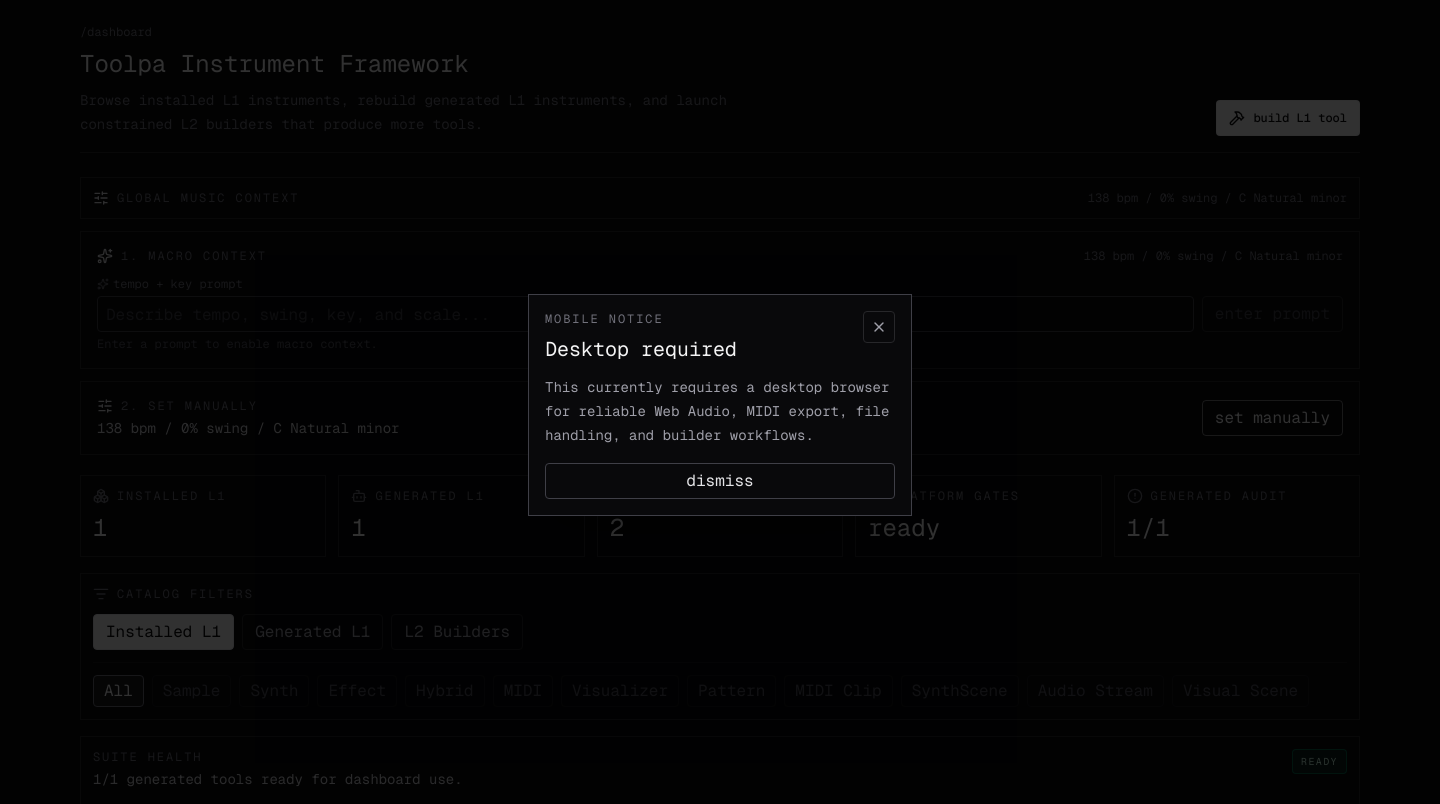
Scenario: ToolSuiteDashboard › shows a dismissible desktop-required modal on mobile
The width and height of the screenshot is (1440, 804).
Expected: the dialog "Desktop required" is shown, [528, 294, 912, 516]
Expected: the heading "Desktop required" is shown, [545, 335, 737, 363]
Click the button "dismiss" at (720, 481), box [545, 463, 895, 499]
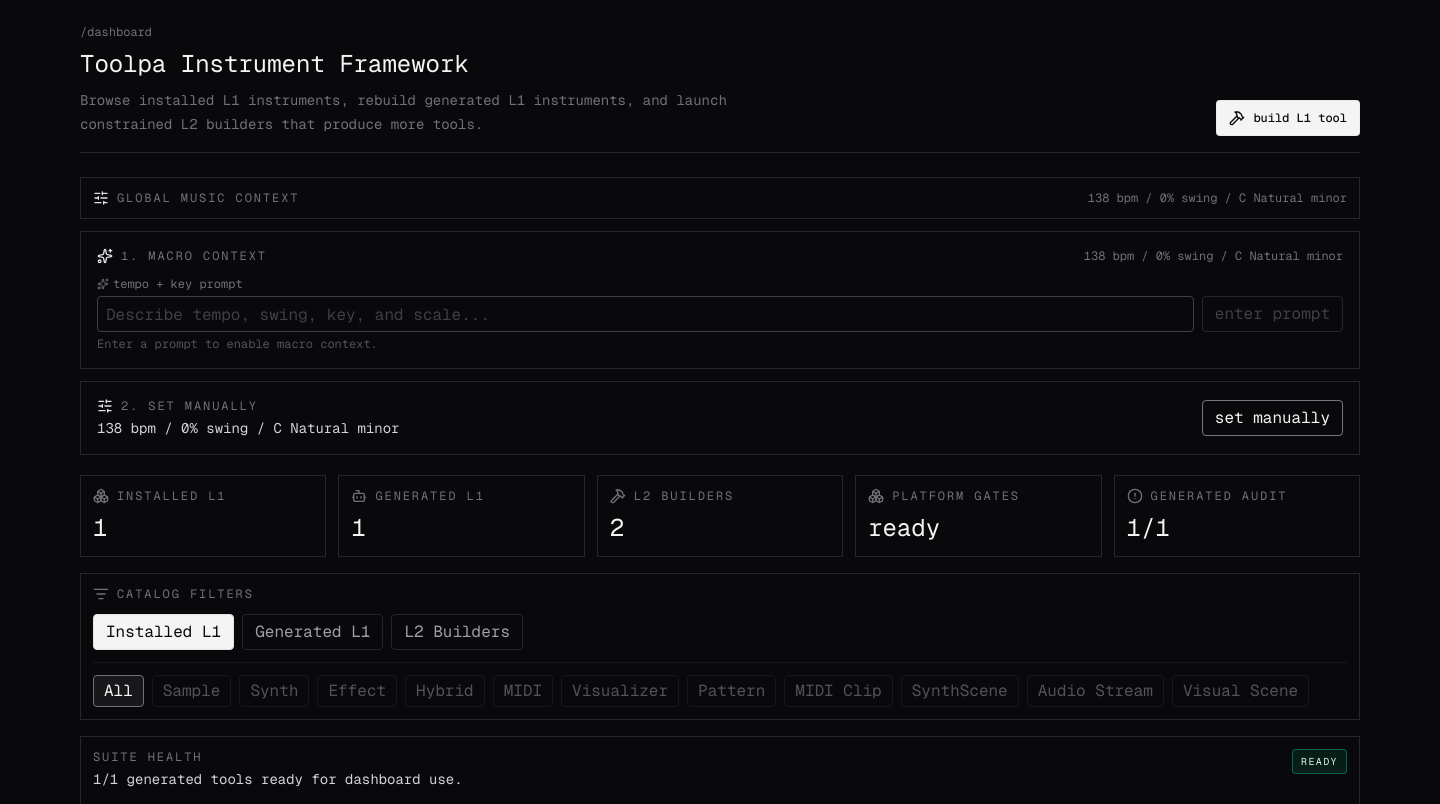
Now the heading "Desktop required" is gone
